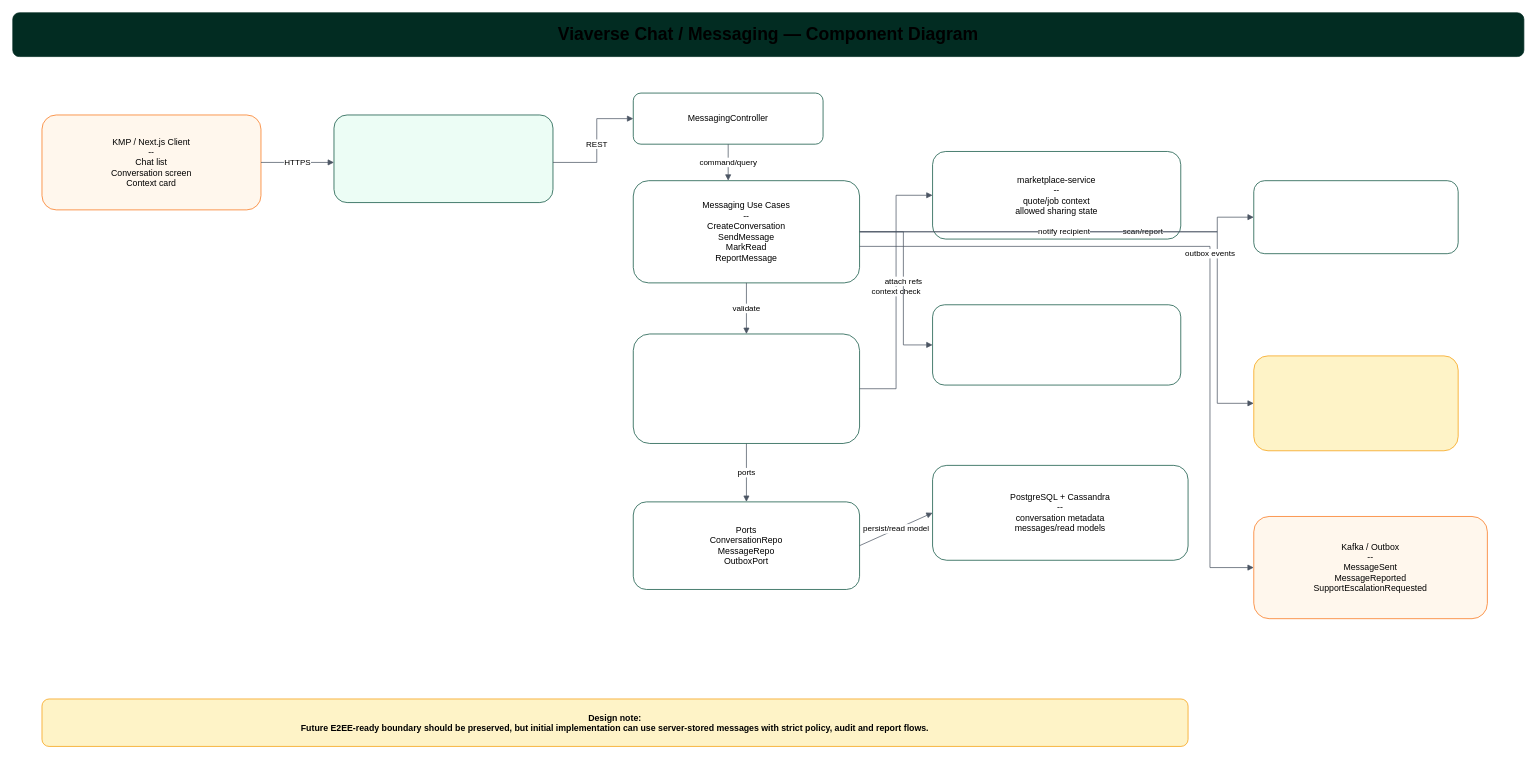
The diagram is 1537 pixels wide and 759 high, and some of its shapes have lost their labels. The shapes that lost their labels are listed below. From the top down, each one's box as (x1, y1, x2, y2) in pixels, then its label:
(333, 114, 553, 203): API Gateway / App BFF -- Conversation API Message API
(1253, 180, 1458, 254): notification-service -- recipient alerts
(932, 304, 1181, 385): media-service -- attachments moderation status
(633, 333, 860, 443): Messaging Policies -- participants context state contact sharing reporting
(1253, 355, 1458, 451): Safety / Moderation -- contact sharing reports risk signals
